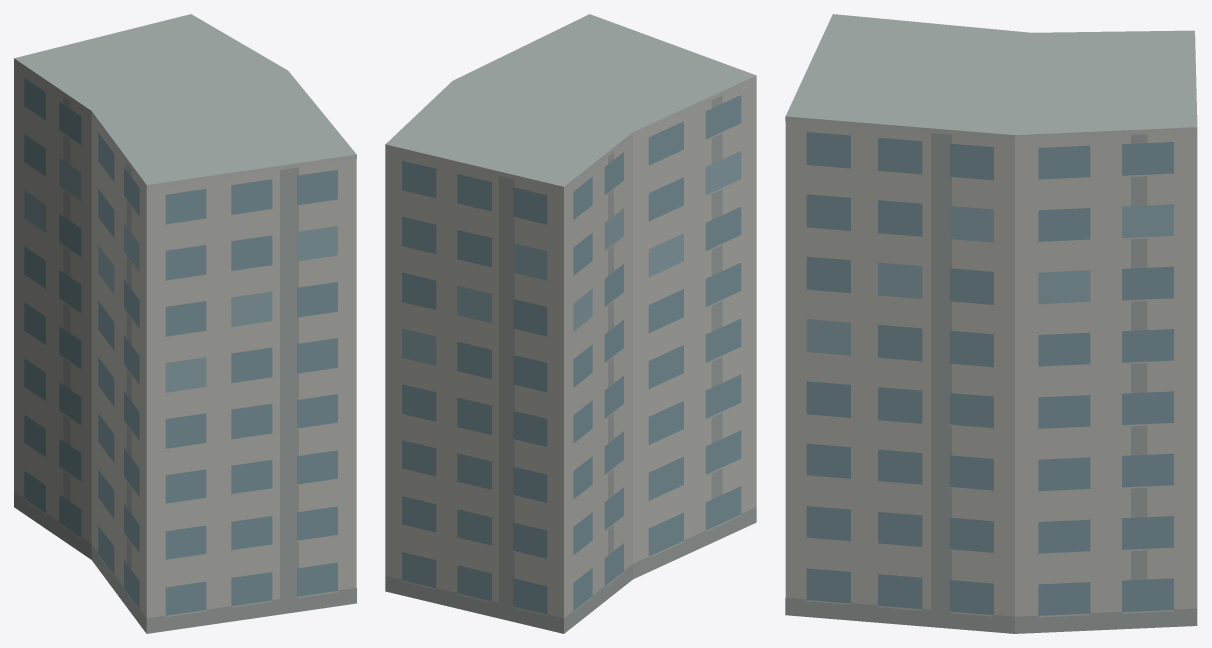
The model's file is survey-upis-32869971.glb.
3 renders of one model, left to right at view 1: azimuth 30°, elevation 25°; view 2: azimuth 150°, elevation 25°; view 3: azimuth 270°, elevation 25°, orthographic. The views are drawn at different scales.
Visible parts, largest first — view 1: survey-upis-32869971.tmp; view 2: survey-upis-32869971.tmp; view 3: survey-upis-32869971.tmp.
Boxes of the visible parts, x1,y1,x2,y2 form: survey-upis-32869971.tmp: (14,14,356,633); survey-upis-32869971.tmp: (385,14,756,633); survey-upis-32869971.tmp: (785,14,1197,633).
Size of the model in its own units: 13.13 by 25.2 by 18.88.
